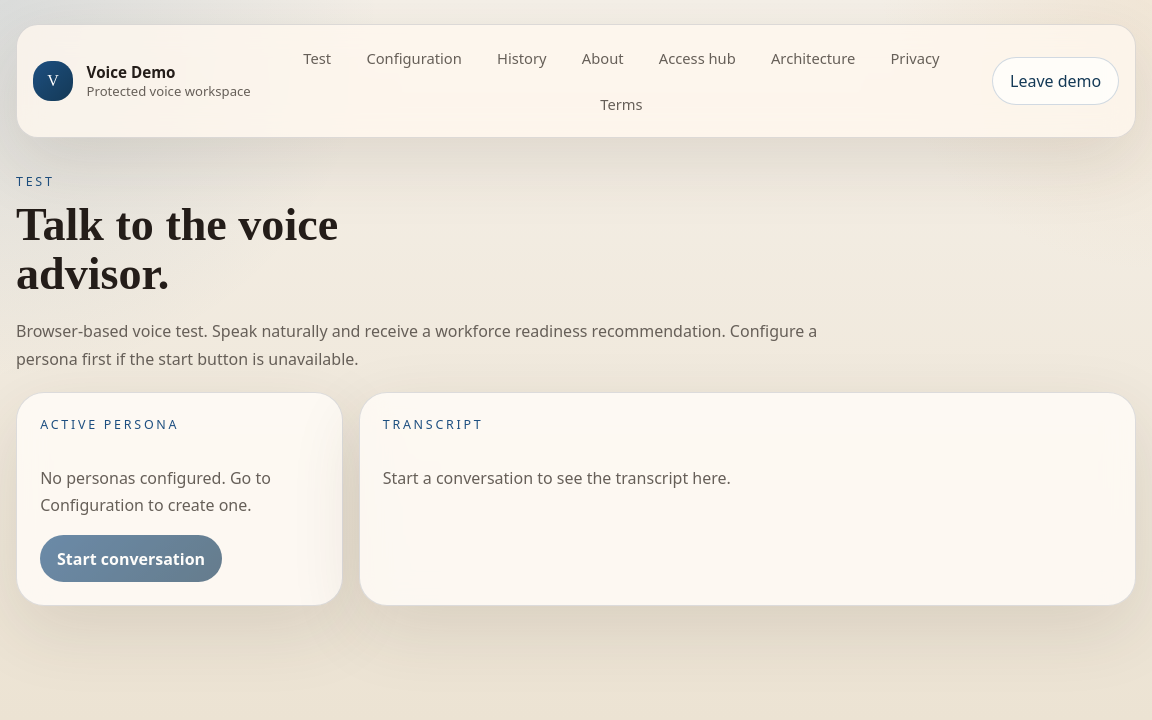
Test case: VoiceDemoWorkspace › Configuration tab shows persona list and experience sections
The image size is (1152, 720).
Click the button "Configuration" at (414, 58), box [353, 39, 476, 77]
(page scrolled)
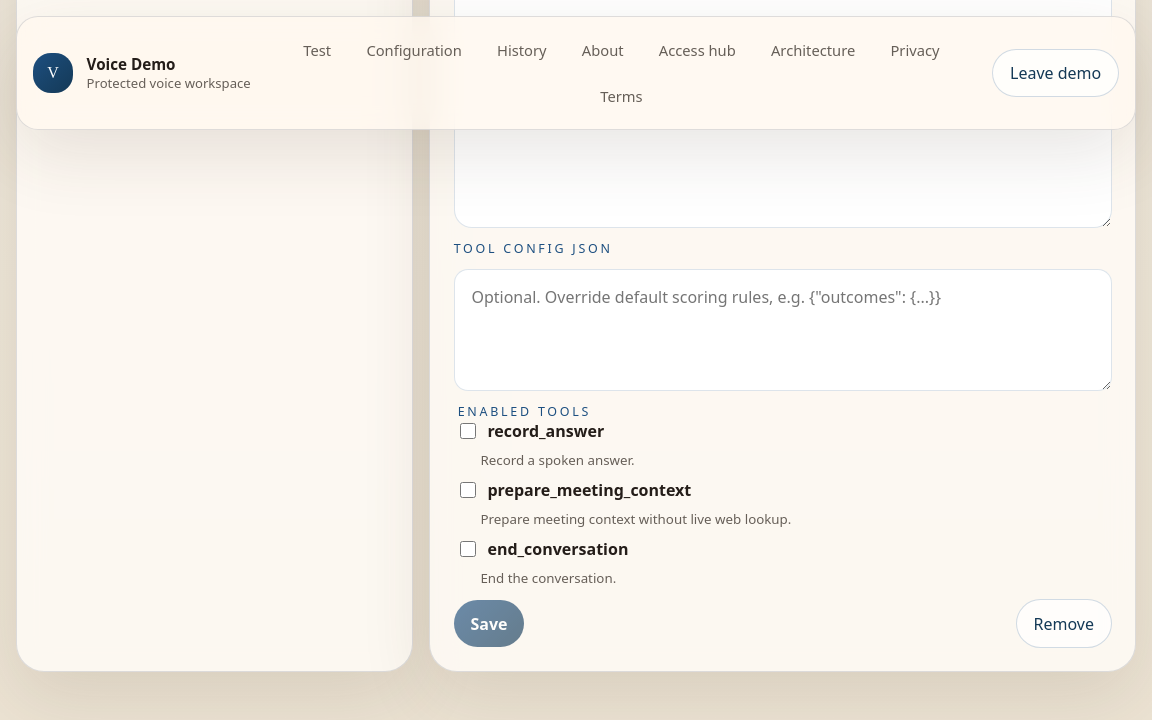
Check: the checkbox labelled "prepare_meeting_context" is shown, box [460, 482, 476, 498]
